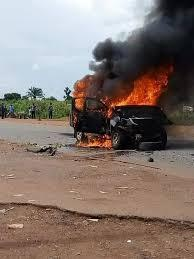fire: (68, 64, 172, 152)
